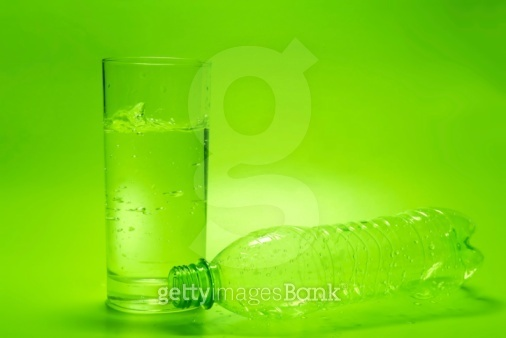glass of water: (100, 57, 218, 309)
